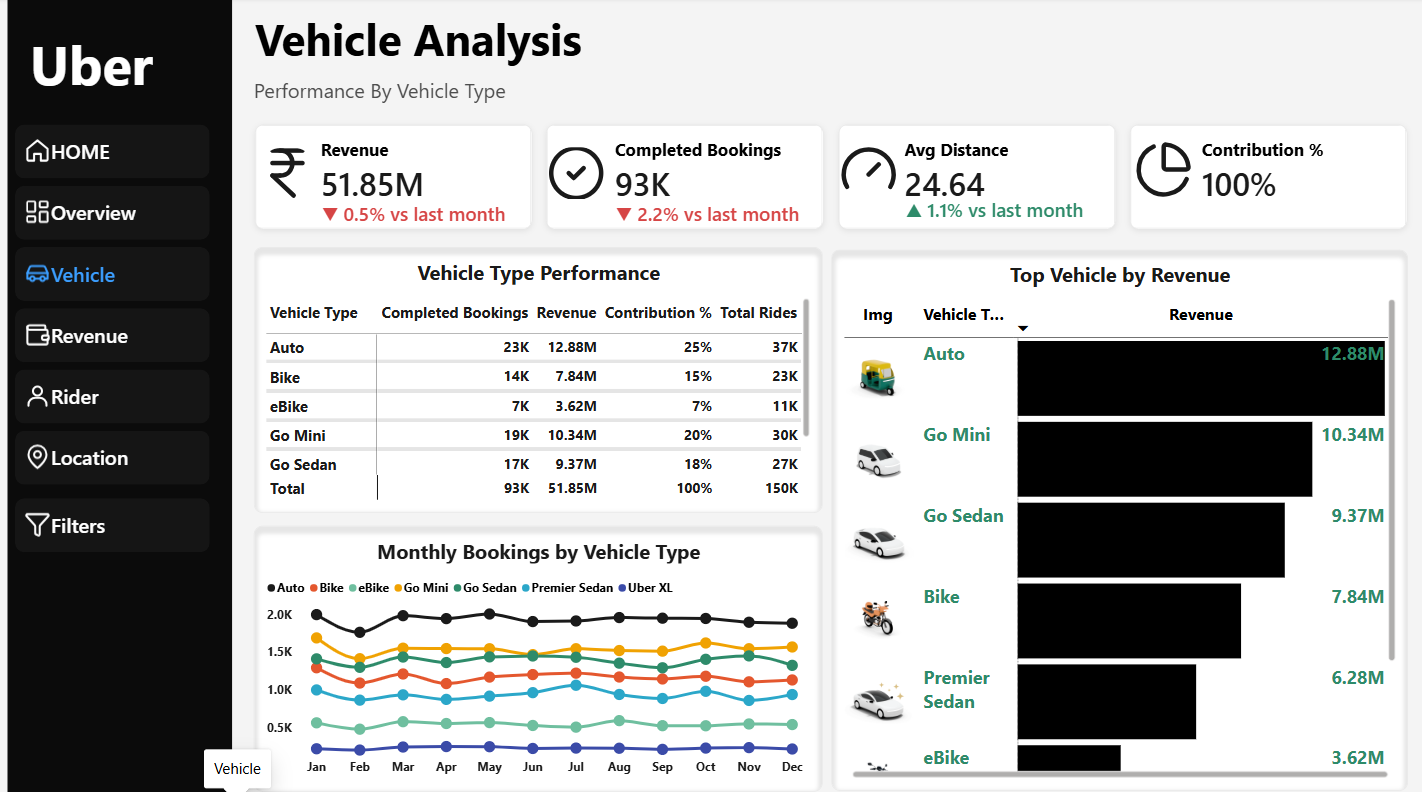

The dashboard page shown, as its layout file describes it:
{"tool":"powerbi","page":{"name":"Vehicle","canvas":[1920,1080],"ordinal":2},"visuals":[{"type":"shape","box":[10,0,300,1080],"z":0},{"type":"textbox","box":[40,40,305.1,162.3],"z":1000},{"type":"actionButton","box":[20,170,260,72],"z":2000},{"type":"actionButton","box":[20,252,260,72],"z":3000},{"type":"actionButton","box":[20,334,260,72],"z":5000},{"type":"actionButton","box":[20,416,260,72],"z":6000},{"type":"actionButton","box":[20,498,260,72],"z":7000},{"type":"actionButton","box":[20,580,260,72],"z":8000},{"type":"textbox","box":[340.2,14.5,450.6,132.1],"z":9000},{"type":"textbox","box":[339.8,82.2,560.5,99.6],"z":10000},{"type":"cardVisual","fields":{"Data":["ALL_Measures.Revenue"]},"box":[340,170,370,140],"z":11000},{"type":"cardVisual","fields":{"Data":["ALL_Measures.Revenue MoM %"]},"box":[413.4,233.7,279.2,108.2],"z":12000},{"type":"image","box":[344.1,190,80,80],"z":13000},{"type":"cardVisual","fields":{"Data":["ALL_Measures.Completed Bookings"]},"box":[730,170,370,140],"z":14000},{"type":"cardVisual","fields":{"Data":["ALL_Measures.Lost MoM %"]},"box":[807.2,233.7,279.2,108.2],"z":15000},{"type":"image","box":[730,190,80,80],"z":16000},{"type":"cardVisual","fields":{"Data":["ALL_Measures.Avg Distance"]},"box":[1120,170,370,140],"z":17000},{"type":"cardVisual","fields":{"Data":["ALL_Measures.Avg Distance MoM %"]},"box":[1194.6,229.4,279.2,108.2],"z":18000},{"type":"image","box":[1120,190.4,80,80],"z":19000},{"type":"cardVisual","fields":{"Data":["ALL_Measures.Contribution %"]},"box":[1510,170,370,140],"z":20000},{"type":"image","box":[1514.1,190,80,80],"z":21000},{"type":"pivotTable","title":"Vehicle Type Performance","fields":{"Rows":["Bookings.Vehicle Type"],"Values":["ALL_Measures.Completed Bookings","ALL_Measures.Revenue","ALL_Measures.Contribution %","ALL_Measures.Total Rides"]},"box":[339.8,333.3,759.6,354.9],"z":22000},{"type":"lineChart","title":"Monthly Bookings by Vehicle Type","fields":{"Category":["Calendar.Month"],"Series":["Bookings.Vehicle Type"],"Y":["ALL_Measures.Completed Bookings"]},"box":[339.8,705.5,759.6,354.9],"z":23000},{"type":"actionButton","title":"Btn_filter","box":[19.9,669.6,260,72],"z":24000},{"type":"tableEx","title":"Top Vehicle by Revenue","fields":{"Values":["Veh_IMG.Img","Veh_IMG.Vehicle Type","ALL_Measures.Revenue"]},"box":[1110.2,337.6,770.4,722.8],"z":28000}]}

Visuals, with their boxes on the page's 1920x1080 design canvas (x1, y1, x2, y2). These are canvas units, not pixel positions in the 1422x792 screenshot, which may show the page scaled, cropped or inside an application window:
shape: [10, 0, 310, 1080]
textbox: [40, 40, 345, 202]
actionButton: [20, 170, 280, 242]
actionButton: [20, 252, 280, 324]
actionButton: [20, 334, 280, 406]
actionButton: [20, 416, 280, 488]
actionButton: [20, 498, 280, 570]
actionButton: [20, 580, 280, 652]
textbox: [340, 14, 791, 147]
textbox: [340, 82, 900, 182]
cardVisual - ALL_Measures.Revenue: [340, 170, 710, 310]
cardVisual - ALL_Measures.Revenue MoM %: [413, 234, 693, 342]
image: [344, 190, 424, 270]
cardVisual - ALL_Measures.Completed Bookings: [730, 170, 1100, 310]
cardVisual - ALL_Measures.Lost MoM %: [807, 234, 1086, 342]
image: [730, 190, 810, 270]
cardVisual - ALL_Measures.Avg Distance: [1120, 170, 1490, 310]
cardVisual - ALL_Measures.Avg Distance MoM %: [1195, 229, 1474, 338]
image: [1120, 190, 1200, 270]
cardVisual - ALL_Measures.Contribution %: [1510, 170, 1880, 310]
image: [1514, 190, 1594, 270]
"Vehicle Type Performance" pivotTable: [340, 333, 1099, 688]
"Monthly Bookings by Vehicle Type" lineChart: [340, 706, 1099, 1060]
"Btn_filter" actionButton: [20, 670, 280, 742]
"Top Vehicle by Revenue" tableEx: [1110, 338, 1881, 1060]
